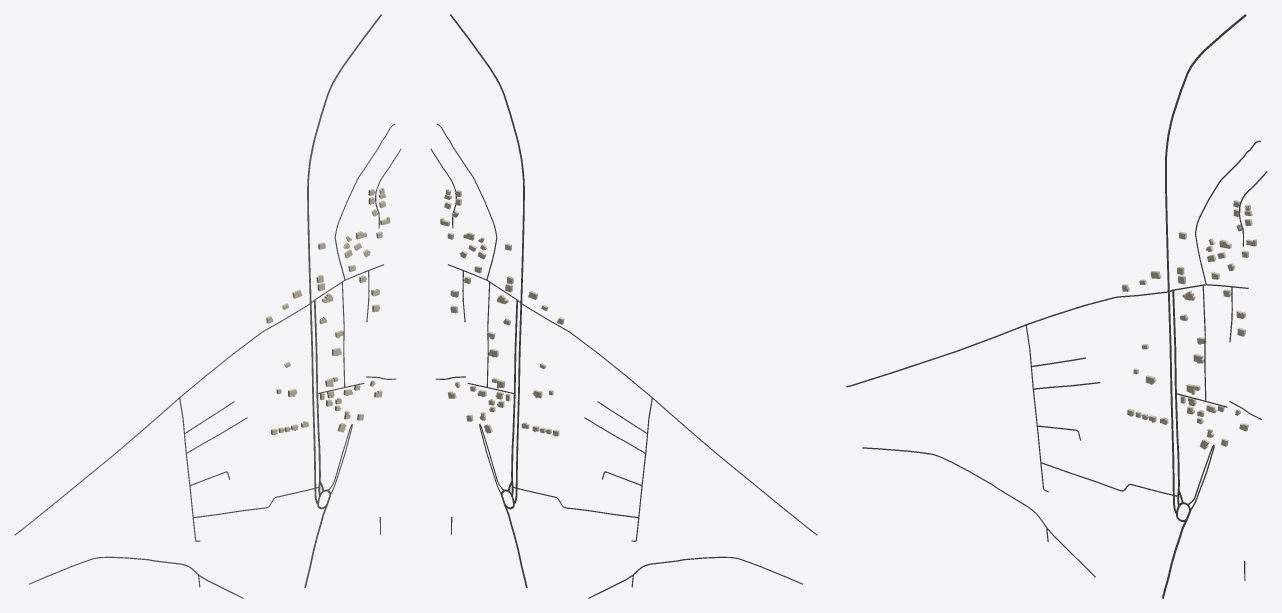
Rendered from irbid_3588_3260.glb.
The picture shows the model from 3 angles, left to right: view 1: azimuth 30°, elevation 25°; view 2: azimuth 150°, elevation 25°; view 3: azimuth 330°, elevation 25°; orthographic projection. The views are drawn at different scales.
Visible parts, largest first — view 1: Road .016, Road .008; view 2: Road .016, Road .008; view 3: Road .016, Road .008, Road .004.
Part boxes in pixels (bbox=[...]): Road .016: bbox=[307, 14, 381, 302]; Road .008: bbox=[14, 299, 314, 535]; Road .016: bbox=[450, 14, 524, 303]; Road .008: bbox=[517, 299, 817, 535]; Road .016: bbox=[1165, 14, 1246, 291]; Road .008: bbox=[846, 289, 1172, 387]; Road .004: bbox=[1168, 292, 1176, 513].
Size of the model in its own units: 1082 by 1484 by 8.7.
